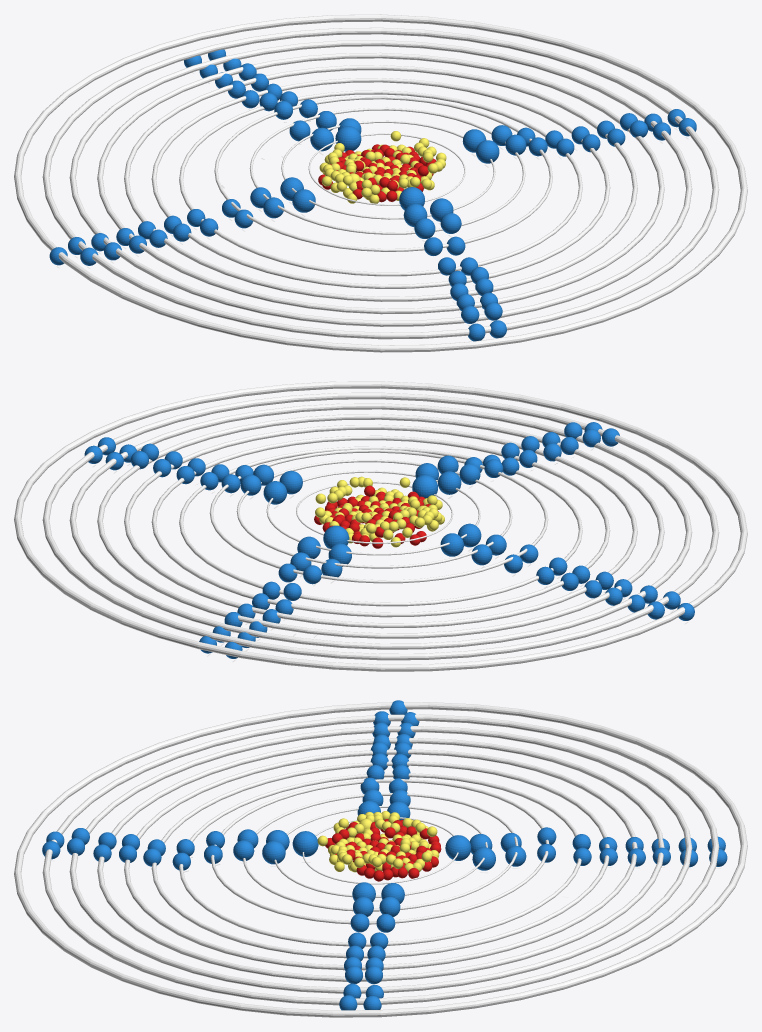
The picture shows the model from 3 angles, top to bottom: view 1: azimuth 30°, elevation 25°; view 2: azimuth 150°, elevation 25°; view 3: azimuth 270°, elevation 25°; orthographic projection.
Visible parts, largest first — view 1: Torus.011, Torus.010, Torus.009, Torus.008, Torus.007, Torus.006, Torus.005, Torus.004, Torus.003, Torus.002, Torus.001; view 2: Torus.011, Torus.010, Torus.009, Torus.008, Torus.007, Torus.006, Torus.005, Torus.004, Torus.003, Torus.002, Torus.001; view 3: Torus.011, Torus.010, Torus.009, Torus.008, Torus.007, Torus.006, Torus.005, Torus.004, Torus.003, Torus.002, g.001, g (+1 smaller).
Part boxes in pixels (bbox=[...]): Torus.011: bbox=[14, 14, 747, 352]; Torus.010: bbox=[42, 27, 719, 339]; Torus.009: bbox=[69, 40, 692, 326]; Torus.008: bbox=[97, 52, 664, 314]; Torus.007: bbox=[124, 65, 637, 301]; Torus.006: bbox=[151, 78, 610, 288]; Torus.005: bbox=[179, 90, 582, 276]; Torus.004: bbox=[214, 96, 552, 251]; Torus.003: bbox=[249, 107, 525, 234]; Torus.002: bbox=[281, 120, 495, 219]; Torus.001: bbox=[308, 133, 465, 205]; Torus.011: bbox=[14, 381, 747, 671]; Torus.010: bbox=[42, 392, 719, 660]; Torus.009: bbox=[69, 403, 692, 649]; Torus.008: bbox=[97, 414, 664, 638]; Torus.007: bbox=[124, 424, 637, 628]; Torus.006: bbox=[151, 435, 610, 617]; Torus.005: bbox=[179, 446, 582, 606]; Torus.004: bbox=[209, 449, 548, 583]; Torus.003: bbox=[236, 459, 512, 568]; Torus.002: bbox=[266, 470, 480, 555]; Torus.001: bbox=[296, 481, 453, 543]; Torus.011: bbox=[14, 702, 747, 1017]; Torus.010: bbox=[42, 714, 719, 1005]; Torus.009: bbox=[69, 726, 692, 993]; Torus.008: bbox=[97, 738, 664, 981]; Torus.007: bbox=[124, 749, 637, 970]; Torus.006: bbox=[151, 761, 609, 958]; Torus.005: bbox=[179, 773, 581, 946]; Torus.004: bbox=[211, 779, 549, 924]; Torus.003: bbox=[243, 793, 518, 911]; Torus.002: bbox=[274, 806, 487, 897]; g.001: bbox=[292, 831, 318, 856]; g: bbox=[445, 835, 471, 860].
Bounding box in the file's own units: 28.21 × 2.85 × 28.03.
